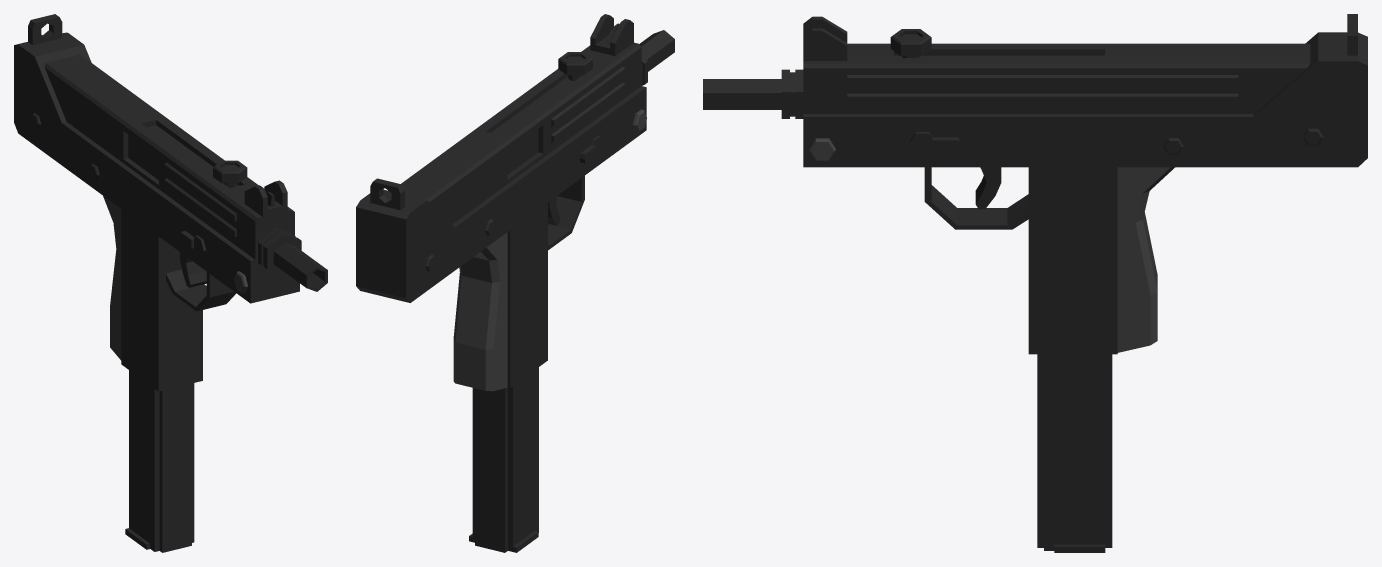
Rendered from SMG_D.fbx.
3 renders of one model, left to right at view 1: azimuth 30°, elevation 25°; view 2: azimuth 150°, elevation 25°; view 3: azimuth 270°, elevation 25°, orthographic. The views are drawn at different scales.
Visible parts, largest first — view 1: SMG_D_Receiver, SMG_D_Mag, SMG_D_Barrel, SMG_D_Bolt, SMG_D_Trigger; view 2: SMG_D_Receiver, SMG_D_Mag, SMG_D_Barrel, SMG_D_Bolt; view 3: SMG_D_Receiver, SMG_D_Mag, SMG_D_Barrel, SMG_D_Bolt, SMG_D_Trigger.
Part boxes in pixels (<box>): SMG_D_Receiver: <box>14,14,299,391</box>; SMG_D_Mag: <box>125,370,194,552</box>; SMG_D_Barrel: <box>258,227,327,291</box>; SMG_D_Bolt: <box>213,160,247,187</box>; SMG_D_Trigger: <box>180,252,206,287</box>; SMG_D_Receiver: <box>356,14,646,391</box>; SMG_D_Mag: <box>469,367,538,552</box>; SMG_D_Barrel: <box>639,30,674,85</box>; SMG_D_Bolt: <box>558,52,592,80</box>; SMG_D_Receiver: <box>803,14,1367,354</box>; SMG_D_Mag: <box>1037,354,1112,552</box>; SMG_D_Barrel: <box>703,69,803,118</box>; SMG_D_Bolt: <box>890,29,931,57</box>; SMG_D_Trigger: <box>975,167,1001,209</box>.
Bounding box in the file's own units: 0.06 × 0.4192 × 0.4875.
